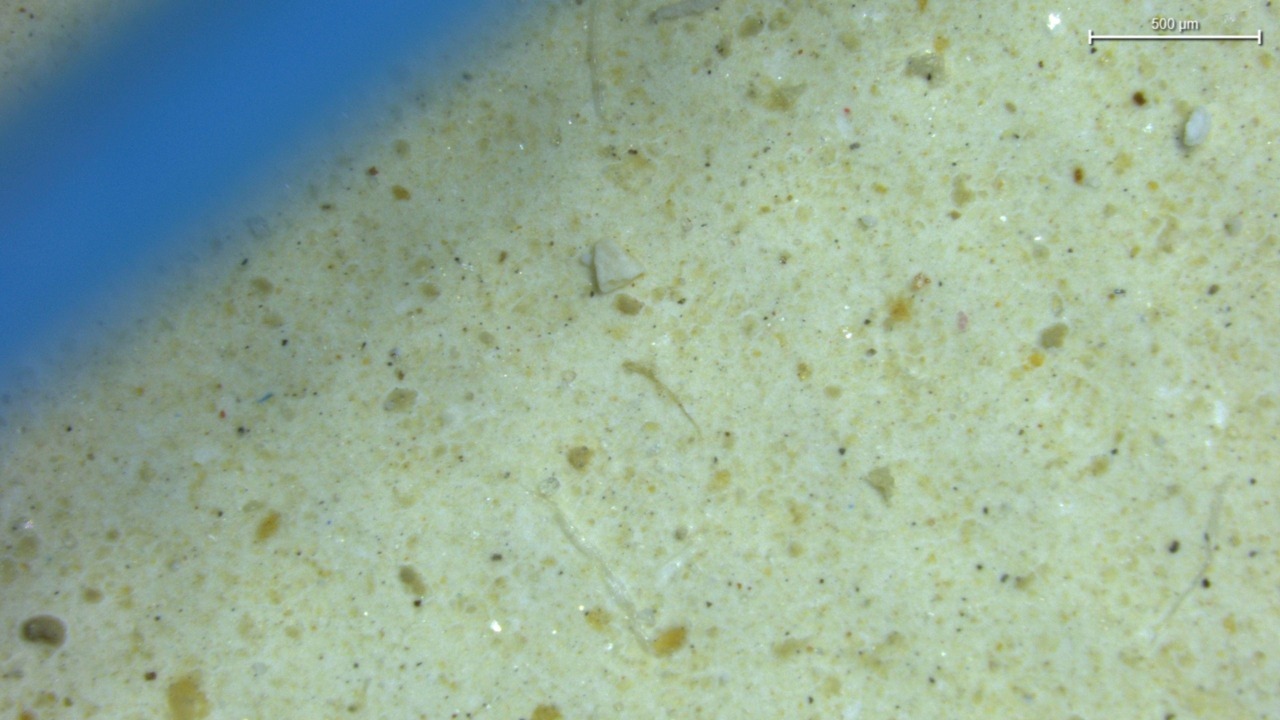microplastic_fragment: (592, 239, 642, 293), (1183, 107, 1211, 146)
